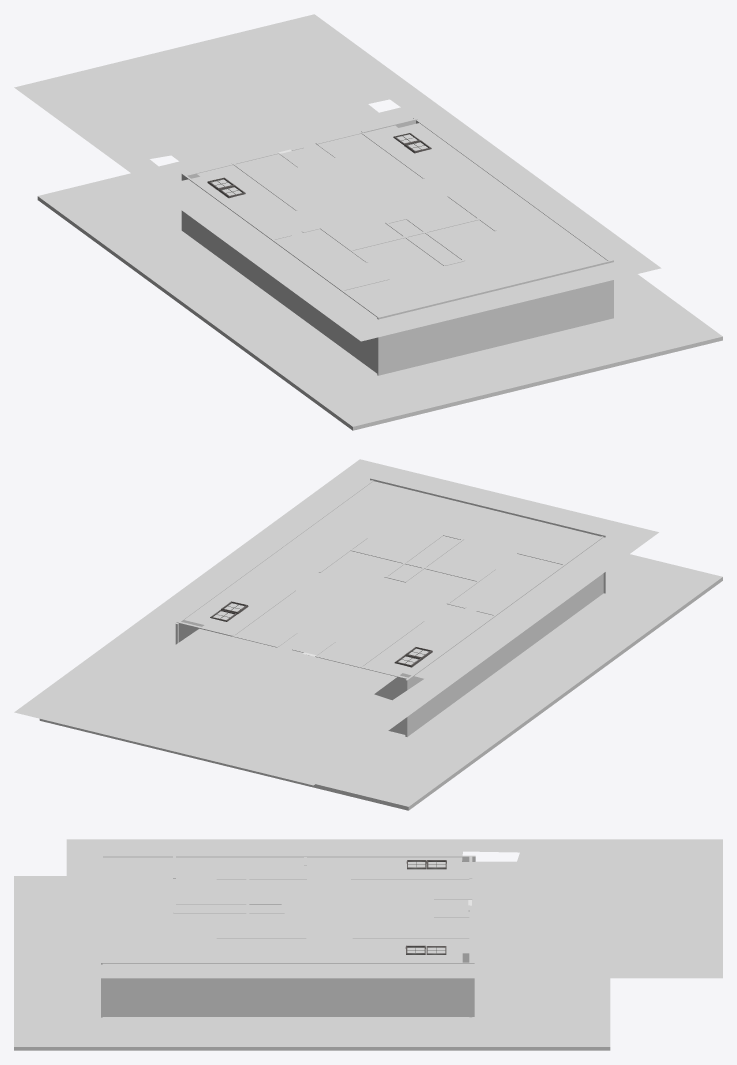
File: museum4.fbx
The picture shows the model from 3 angles, top to bottom: view 1: azimuth 30°, elevation 25°; view 2: azimuth 150°, elevation 25°; view 3: azimuth 270°, elevation 25°; orthographic projection. The views are drawn at different scales.
Visible parts, largest first — view 1: roof, Cube.001, Cube.014, Cube.030; view 2: roof, Cube.001, Cube.030, Cube.014, Cube.018, Cube.017; view 3: roof, Cube.001, Cube.017, Cube.030.
Part boxes in pixels (x1=…): roof: x1=14, y1=14, x2=661, y2=341; Cube.001: x1=37, y1=107, x2=722, y2=430; Cube.014: x1=377, y1=260, x2=613, y2=375; Cube.030: x1=181, y1=173, x2=378, y2=373; roof: x1=14, y1=459, x2=658, y2=785; Cube.001: x1=39, y1=554, x2=722, y2=810; Cube.030: x1=405, y1=536, x2=603, y2=736; Cube.014: x1=370, y1=478, x2=605, y2=593; Cube.018: x1=361, y1=666, x2=407, y2=734; Cube.017: x1=175, y1=480, x2=373, y2=644; roof: x1=66, y1=839, x2=722, y2=978; Cube.001: x1=14, y1=876, x2=610, y2=1050; Cube.017: x1=102, y1=962, x2=474, y2=1016; Cube.030: x1=103, y1=855, x2=475, y2=861.
Bounding box in the file's own units: 73884 × 11807 × 129597.
Materials: 20 (14 with a texture image).
